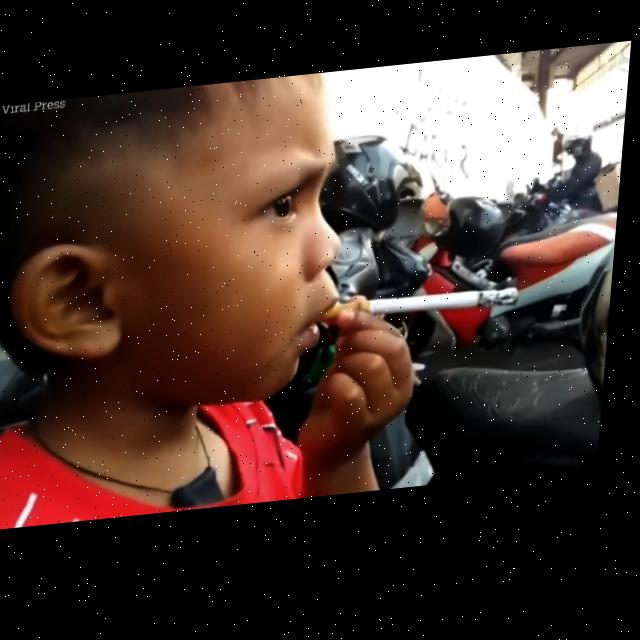cigarette: (320, 296, 527, 333)
